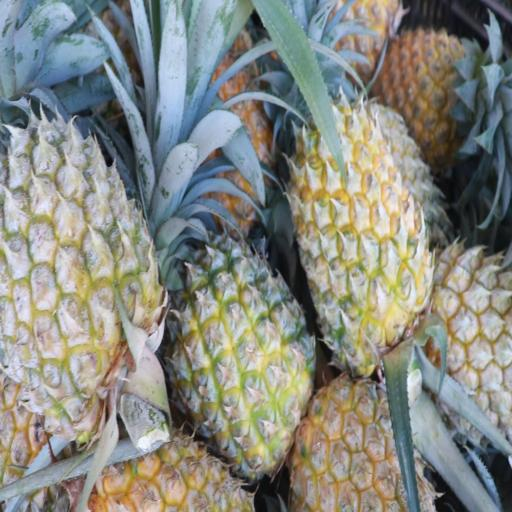------------------------------: (0, 125, 158, 409), (174, 239, 310, 463)
Pineapple - v8 v1: (297, 94, 429, 342), (298, 377, 430, 512), (386, 28, 497, 163)
